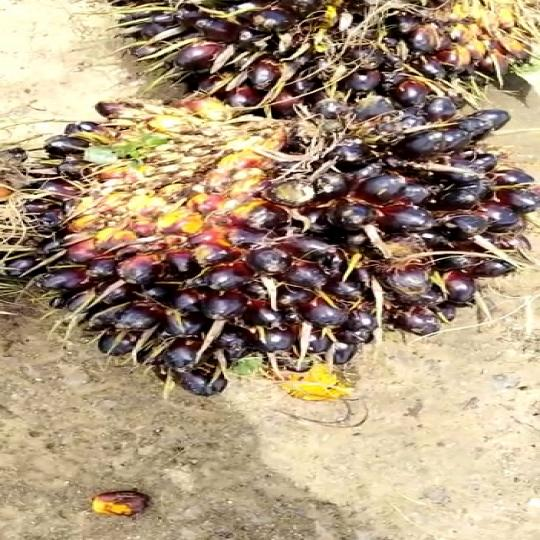mentah: (16, 76, 540, 390)
